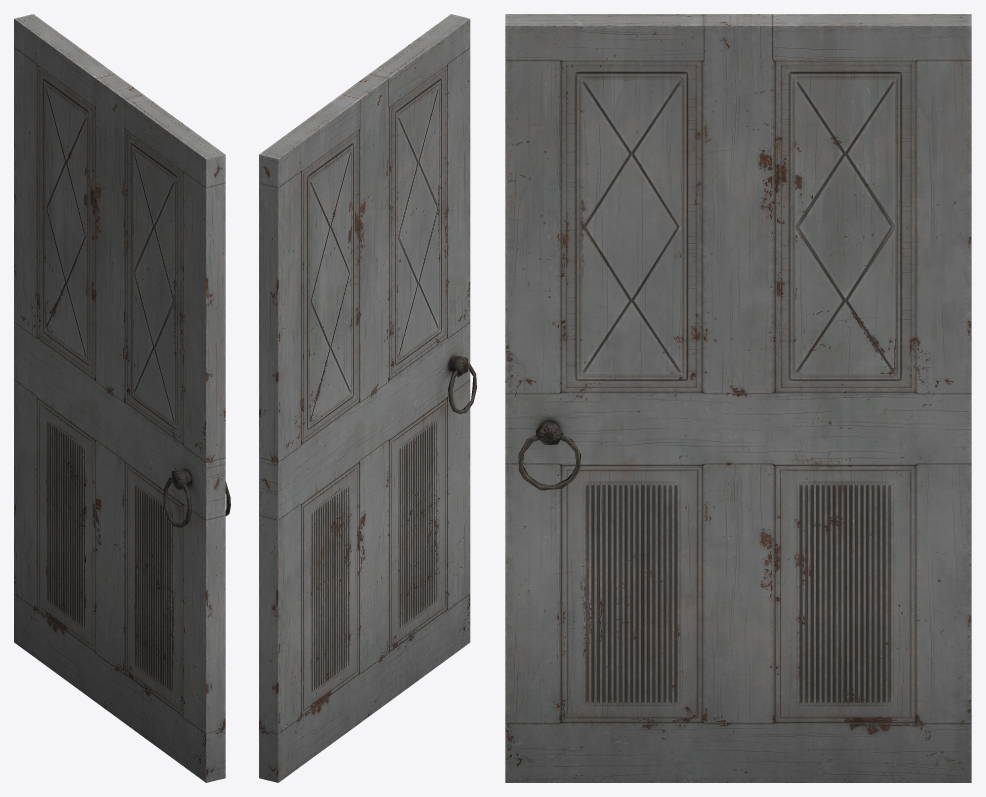
File: SM_door_wall_A_int_doorway_2x2_01.fbx
3 renders of one model, left to right at view 1: azimuth 30°, elevation 25°; view 2: azimuth 150°, elevation 25°; view 3: azimuth 270°, elevation 25°, orthographic. The views are drawn at different scales.
Parts seen in each view (by area): view 1: SM_door_wall_A_int_doorway_2x2_01_LOD0; view 2: SM_door_wall_A_int_doorway_2x2_01_LOD0; view 3: SM_door_wall_A_int_doorway_2x2_01_LOD0.
Boxes of the visible parts, x1,y1,x2,y2 form: SM_door_wall_A_int_doorway_2x2_01_LOD0: (14, 14, 230, 782); SM_door_wall_A_int_doorway_2x2_01_LOD0: (259, 14, 476, 782); SM_door_wall_A_int_doorway_2x2_01_LOD0: (505, 14, 971, 782).
Bounding box in the file's own units: 16.83 × 120 × 215.
1 material, 1 textured.
